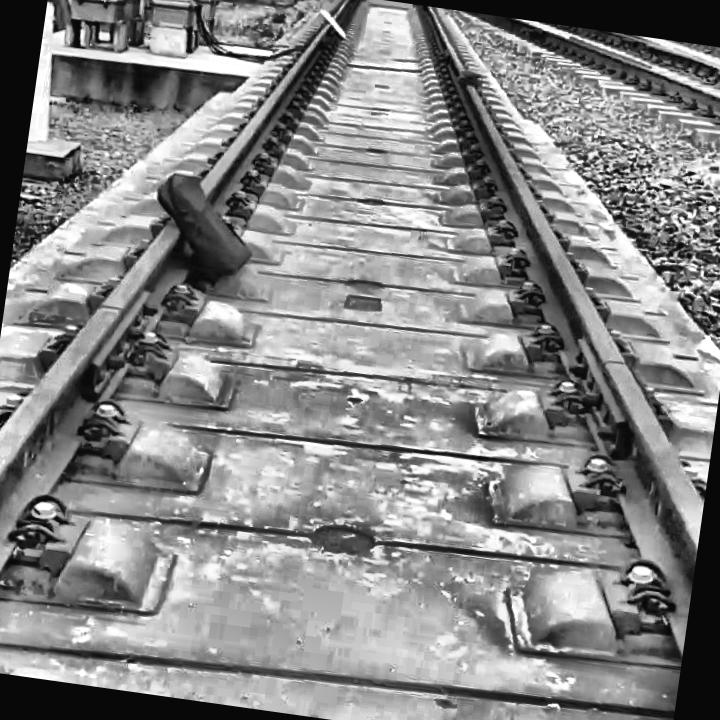Trash: (121, 142, 278, 290), (312, 0, 362, 41)
